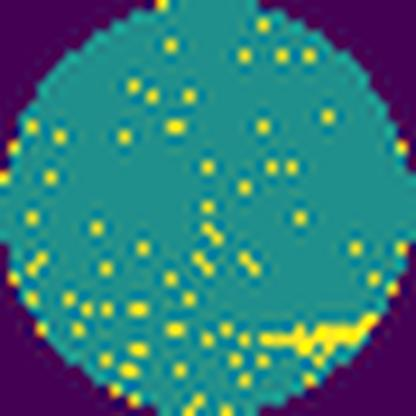Scratch: (258, 312, 380, 368)
